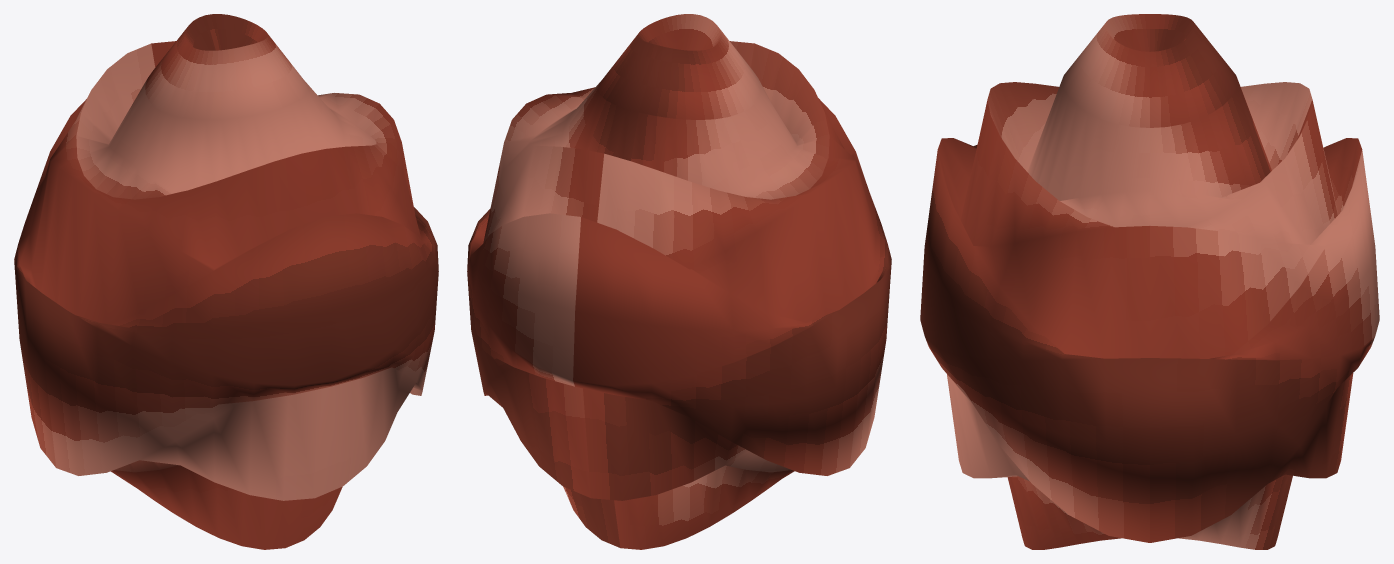
The model's file is ChocolateScoop.obj.
The picture shows the model from 3 angles, left to right: view 1: azimuth 30°, elevation 25°; view 2: azimuth 150°, elevation 25°; view 3: azimuth 270°, elevation 25°; orthographic projection. The views are drawn at different scales.
Visible parts, largest first — view 1: Sphere001; view 2: Sphere001; view 3: Sphere001.
Part boxes in pixels (x1,y1,x2,y2): Sphere001: (14,14,438,549); Sphere001: (467,14,891,549); Sphere001: (920,14,1379,549).
Size of the model in its own units: 1.18 by 1.45 by 1.18.
